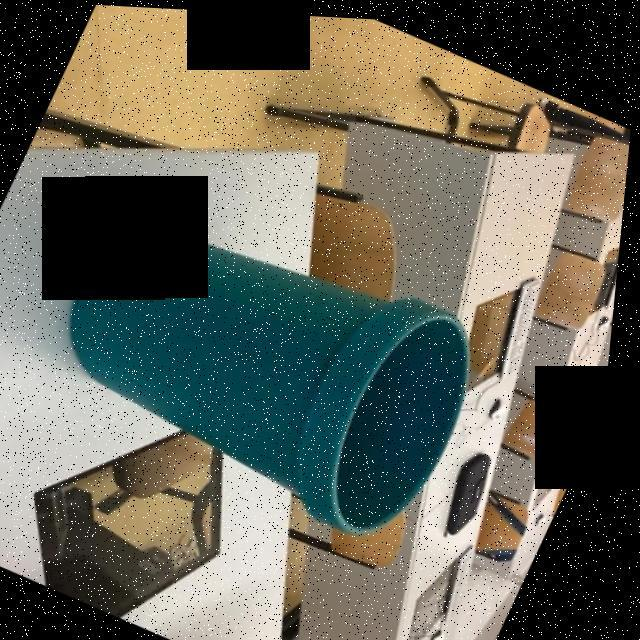bin: (0, 156, 555, 597)
